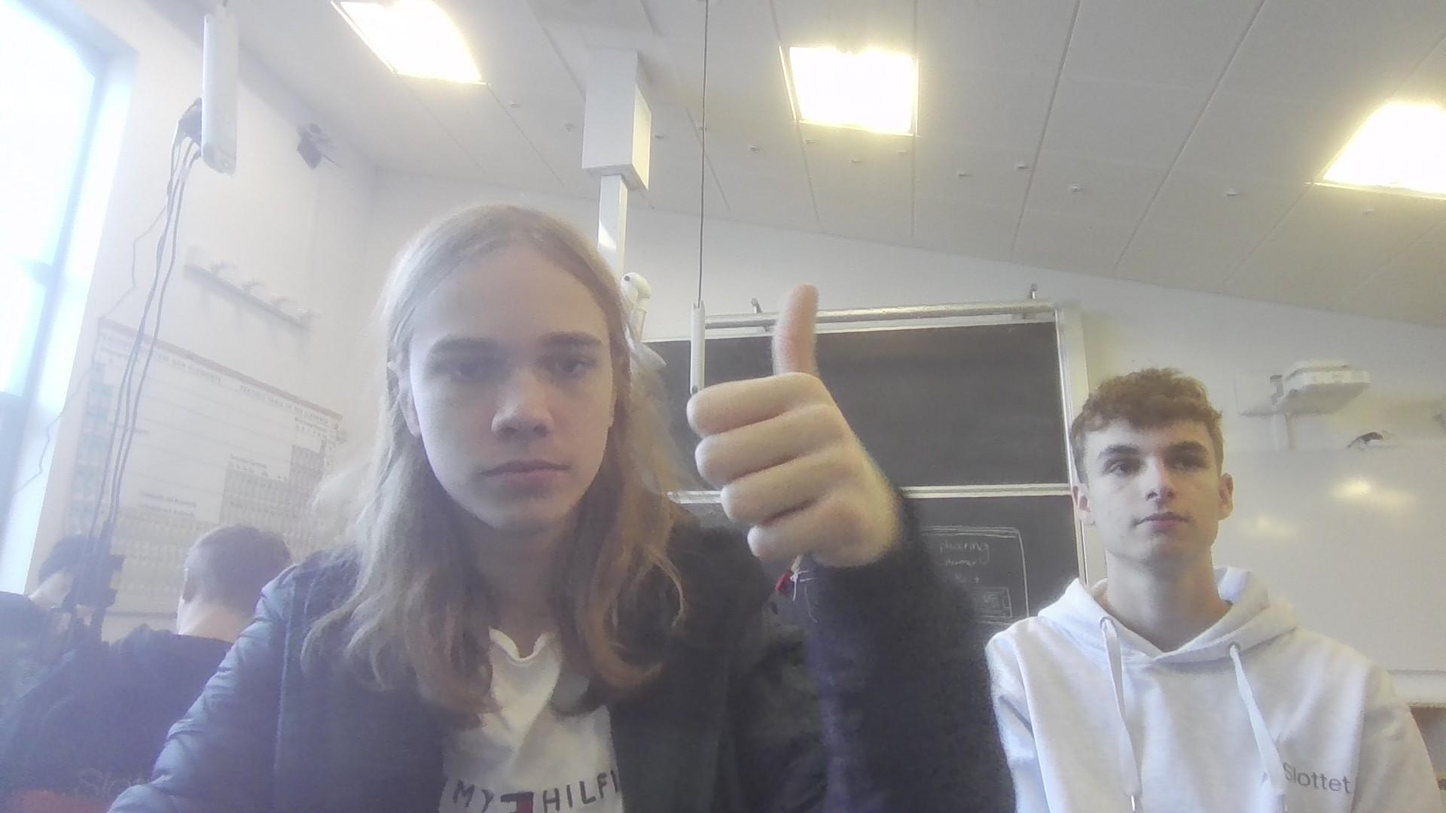thumbs up: (687, 285, 881, 568)
